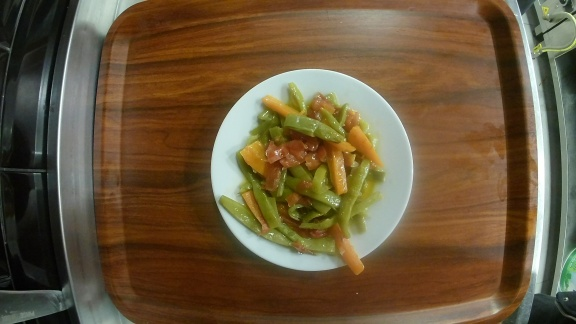tazefasulye: (208, 68, 416, 273)
